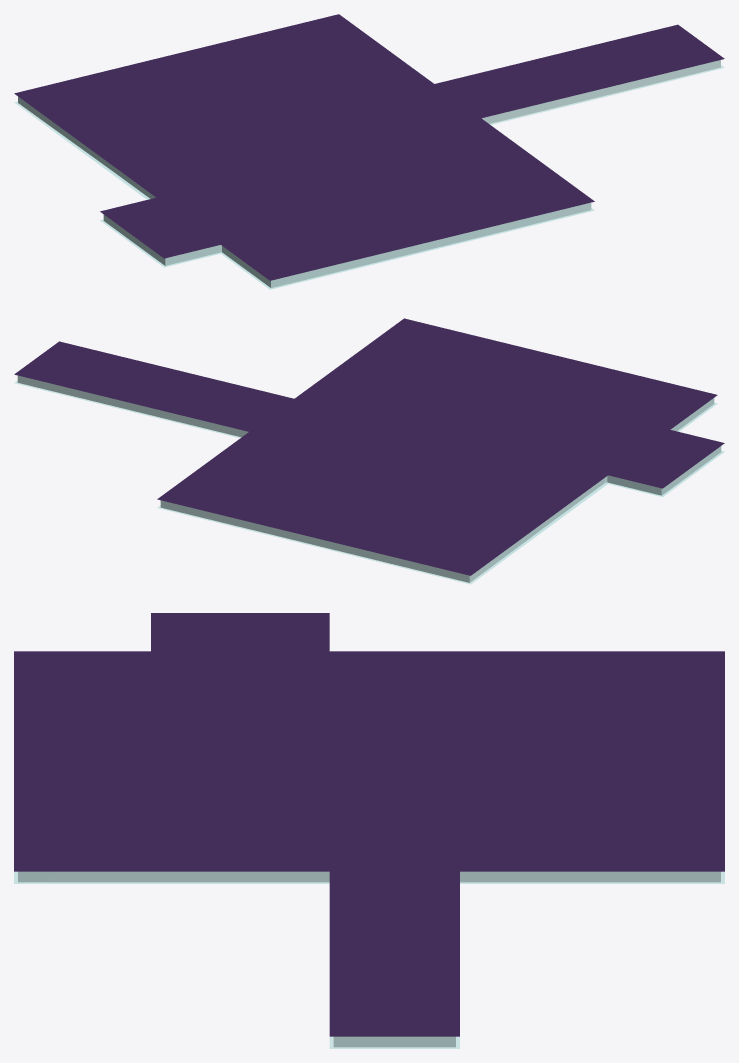
Rendered from Ceiling.fbx.
The picture shows the model from 3 angles, top to bottom: view 1: azimuth 30°, elevation 25°; view 2: azimuth 150°, elevation 25°; view 3: azimuth 270°, elevation 25°; orthographic projection. The views are drawn at different scales.
Visible parts, largest first — view 1: Ceiling; view 2: Ceiling; view 3: Ceiling.
Part boxes in pixels (box(x1,y1,x2,y2)): Ceiling: box(14, 14, 724, 289); Ceiling: box(14, 318, 724, 584); Ceiling: box(14, 613, 724, 1048).
Size of the model in its own units: 1662 by 22.71 by 1179.
